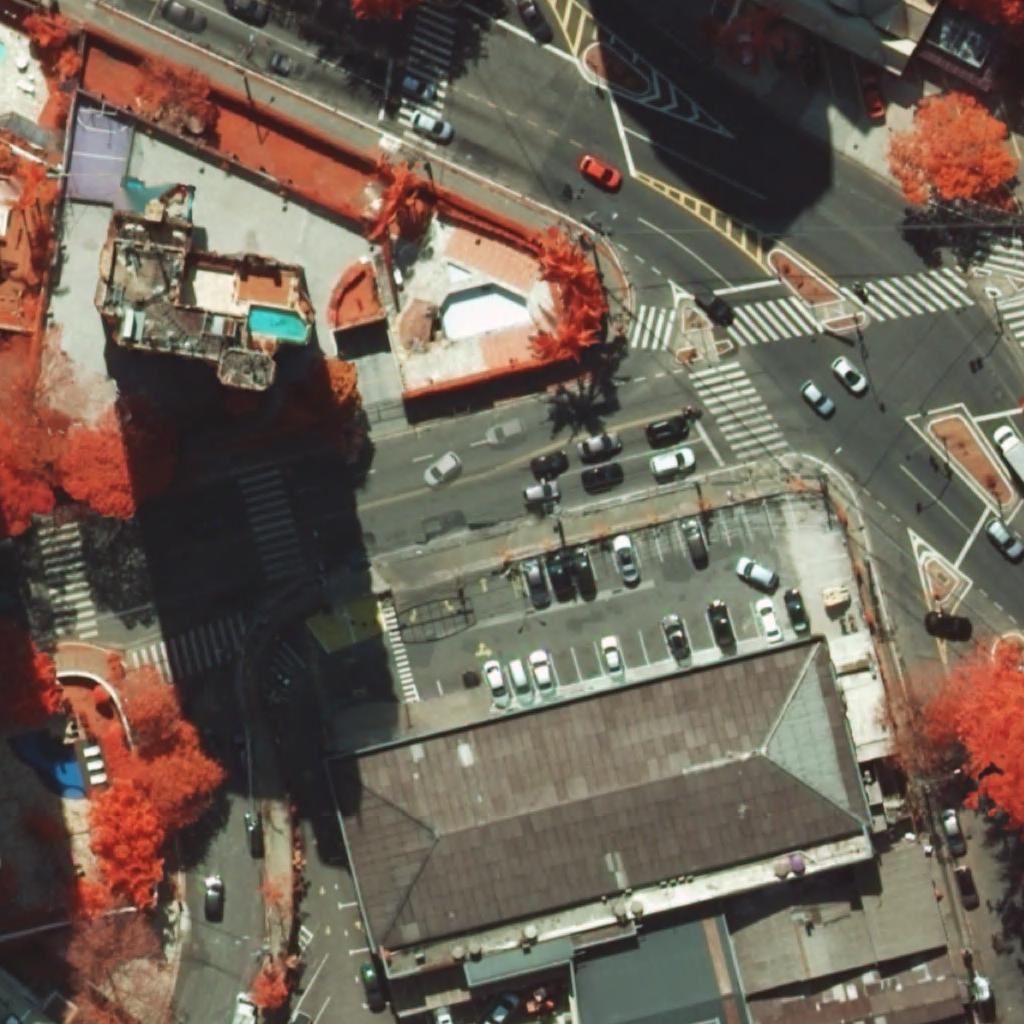pool: (8, 728, 88, 799), (247, 305, 306, 341)
